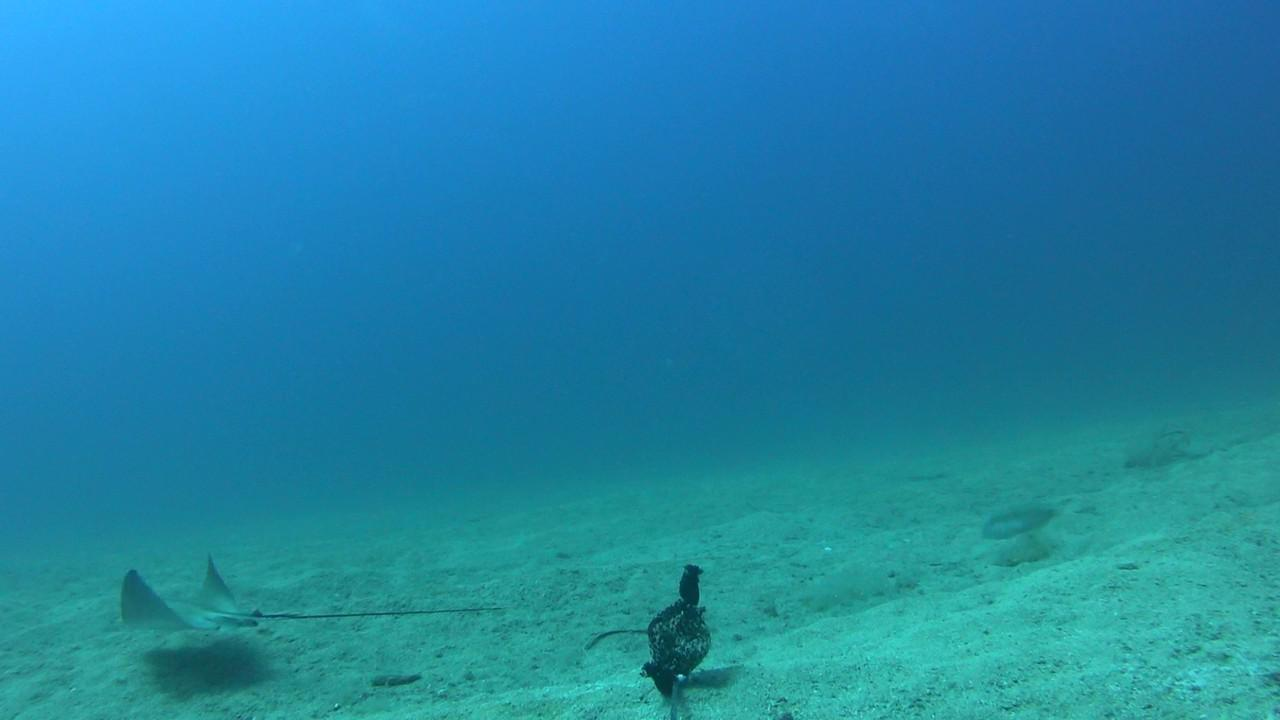myliobatis: (69, 503, 534, 652)
raor: (982, 503, 1062, 539)
